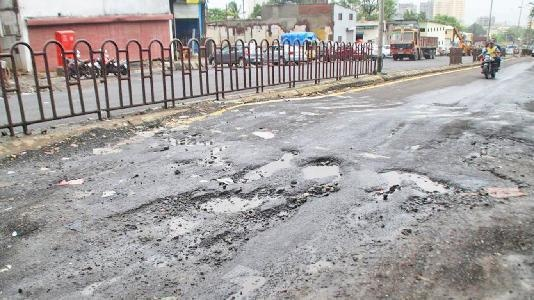pothole: (108, 187, 308, 233), (375, 166, 461, 195), (237, 145, 300, 180), (299, 155, 345, 181), (162, 133, 212, 146), (482, 183, 525, 197), (251, 126, 275, 139)
